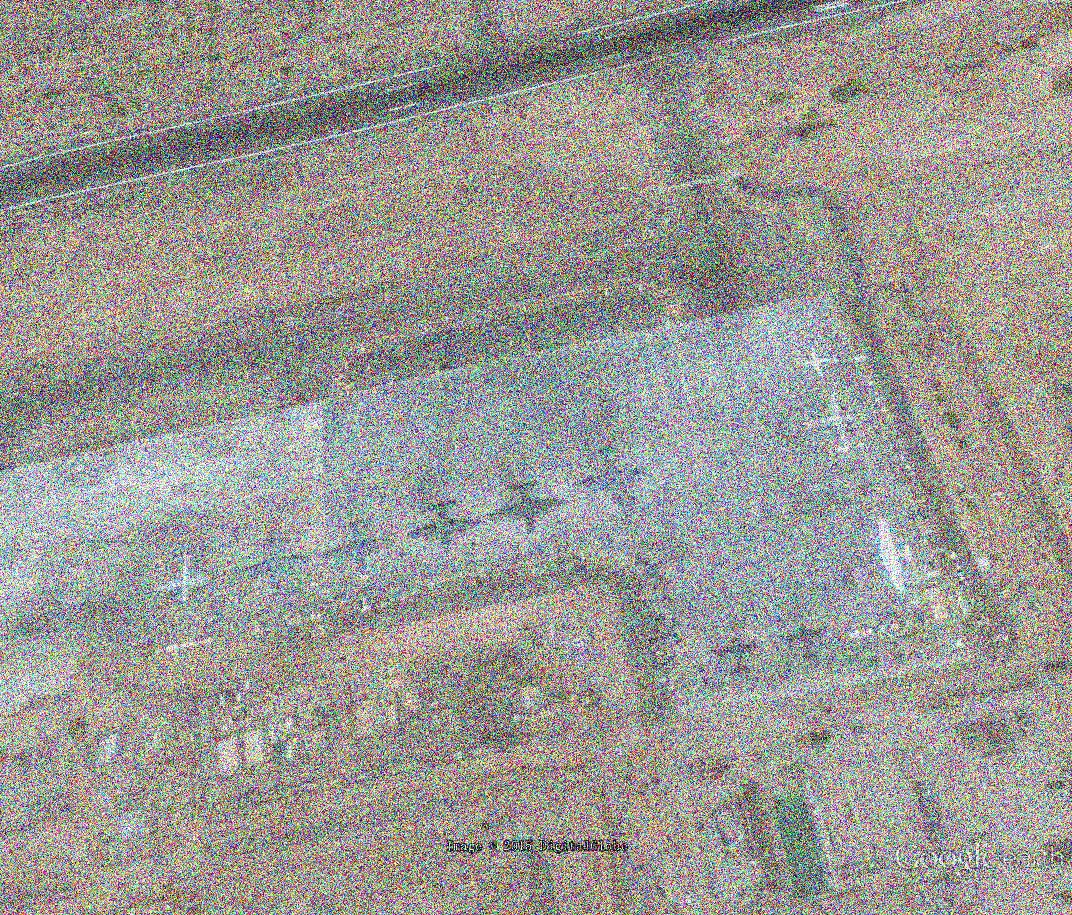aircraft: (487, 477, 571, 540), (233, 532, 315, 596), (571, 445, 652, 509), (321, 515, 400, 578), (406, 498, 486, 557), (154, 549, 218, 610), (800, 391, 865, 451), (874, 514, 916, 597), (714, 636, 764, 680), (785, 623, 827, 670), (632, 551, 675, 592), (802, 343, 843, 382), (652, 612, 690, 650), (45, 551, 83, 582), (49, 606, 80, 644), (47, 582, 84, 608)
